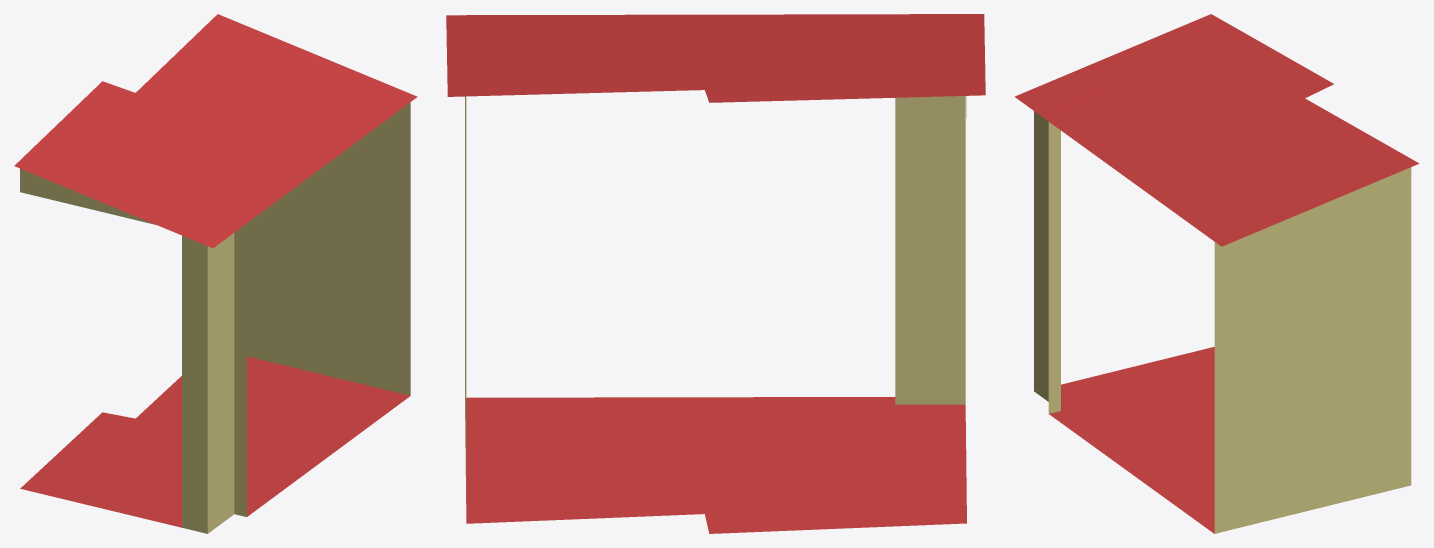
The picture shows the model from 3 angles, left to right: view 1: azimuth 30°, elevation 25°; view 2: azimuth 150°, elevation 25°; view 3: azimuth 270°, elevation 25°; orthographic projection. The views are drawn at different scales.
Size of the model in its own units: 8.23 by 7.1 by 6.37.
